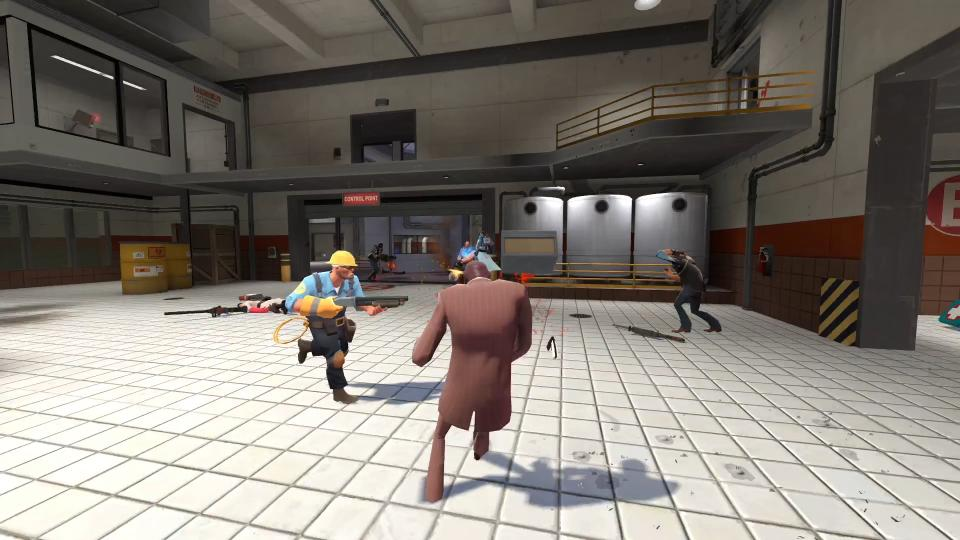Enemy: (414, 260, 532, 501), (286, 248, 399, 405), (656, 246, 725, 333), (364, 240, 396, 282), (448, 241, 476, 279), (477, 231, 501, 272), (237, 294, 286, 313)
